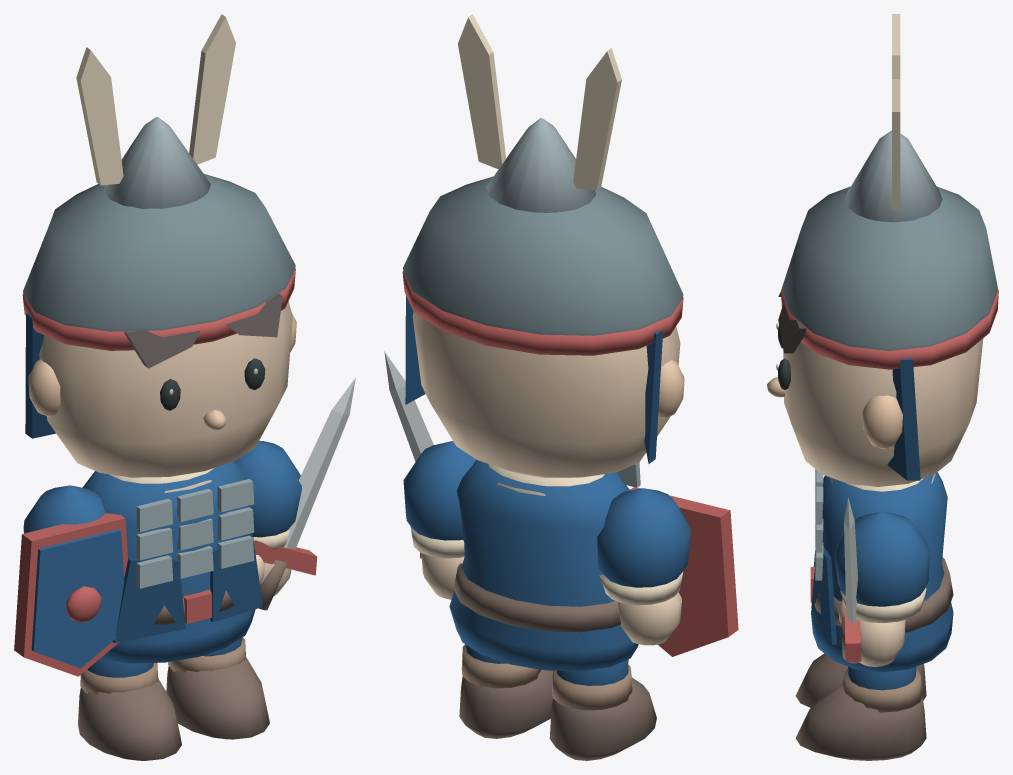
The model's file is warrior.glb.
3 renders of one model, left to right at view 1: azimuth 30°, elevation 25°; view 2: azimuth 150°, elevation 25°; view 3: azimuth 270°, elevation 25°, orthographic. The views are drawn at different scales.
Visible parts, largest first — view 1: Regional helmet, Soft cheek head, Short folded tunic, Regional shield face, Round leather boot, Round leather boot.001, Goguryeo pointed crown, Shield gold rim, Puff sleeve.001, Feather plume.001, Feather plume, Coat fold (+25 smaller); view 2: Regional helmet, Soft cheek head, Short folded tunic, Shield gold rim, Puff sleeve, Goguryeo pointed crown, Helmet brow band, Round leather boot, Puff sleeve.001, Round leather boot.001, Broad leather belt, Feather plume.001 (+13 smaller); view 3: Regional helmet, Soft cheek head, Short folded tunic, Round leather boot.001, Puff sleeve.001, Goguryeo pointed crown, Helmet brow band, Lamellar neck flap.001, Little mitten.001, Boot turn cuff.001, Ear.001, Round leather boot (+9 smaller).
Boxes of the visible parts, x1=… form: Regional helmet: x1=23, y1=174, x2=295, y2=331; Soft cheek head: x1=39, y1=301, x2=292, y2=477; Short folded tunic: x1=82, y1=461, x2=255, y2=663; Regional shield face: x1=31, y1=529, x2=124, y2=668; Round leather boot: x1=78, y1=678, x2=181, y2=760; Round leather boot.001: x1=166, y1=656, x2=269, y2=739; Goguryeo pointed crown: x1=104, y1=117, x2=210, y2=208; Shield gold rim: x1=14, y1=513, x2=127, y2=676; Puff sleeve.001: x1=234, y1=440, x2=301, y2=537; Feather plume.001: x1=189, y1=14, x2=235, y2=164; Feather plume: x1=76, y1=47, x2=123, y2=185; Coat fold: x1=112, y1=558, x2=185, y2=643; Regional helmet: x1=403, y1=176, x2=683, y2=335; Soft cheek head: x1=412, y1=312, x2=680, y2=477; Short folded tunic: x1=449, y1=460, x2=638, y2=671; Shield gold rim: x1=629, y1=487, x2=738, y2=656; Puff sleeve: x1=597, y1=488, x2=690, y2=587; Goguryeo pointed crown: x1=486, y1=118, x2=596, y2=212; Helmet brow band: x1=402, y1=271, x2=683, y2=355; Round leather boot: x1=549, y1=677, x2=656, y2=760; Puff sleeve.001: x1=403, y1=441, x2=476, y2=540; Round leather boot.001: x1=459, y1=670, x2=552, y2=738; Broad leather belt: x1=453, y1=563, x2=620, y2=632; Feather plume.001: x1=458, y1=14, x2=506, y2=169; Regional helmet: x1=782, y1=186, x2=997, y2=350; Soft cheek head: x1=783, y1=338, x2=983, y2=486; Short folded tunic: x1=811, y1=472, x2=953, y2=672; Round leather boot.001: x1=795, y1=683, x2=926, y2=760; Puff sleeve.001: x1=834, y1=511, x2=930, y2=606; Goguryeo pointed crown: x1=845, y1=130, x2=942, y2=222; Helmet brow band: x1=781, y1=288, x2=998, y2=369; Lamellar neck flap.001: x1=887, y1=357, x2=920, y2=480; Little mitten.001: x1=859, y1=620, x2=905, y2=666; Boot turn cuff.001: x1=842, y1=668, x2=922, y2=712; Ear.001: x1=862, y1=395, x2=902, y2=448; Round leather boot: x1=795, y1=653, x2=926, y2=707.
Size of the model in its own units: 1 by 1.95 by 0.602.
